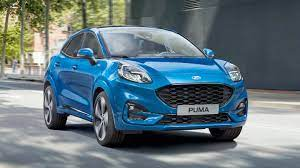Ford: (40, 24, 248, 144)
